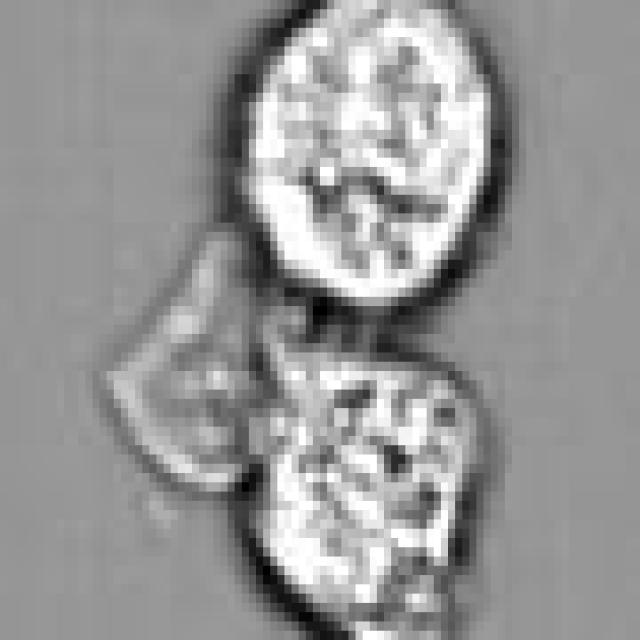Cancer Cell: (235, 9, 519, 316)
WBC: (249, 343, 498, 640)
